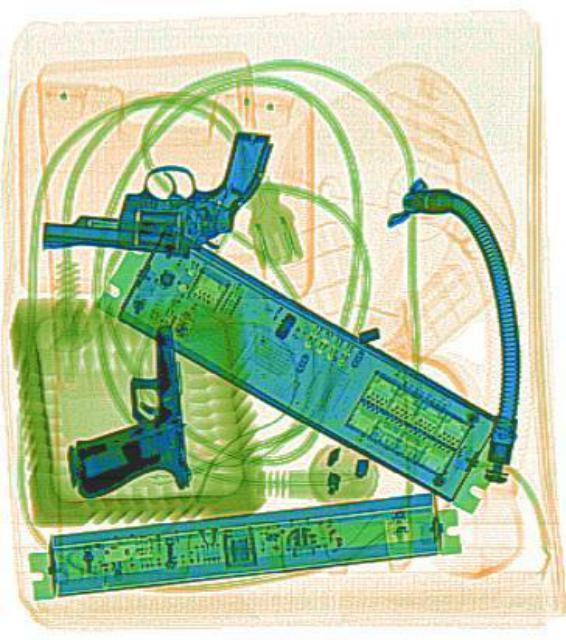Gun: (40, 120, 271, 252), (52, 322, 187, 498)
